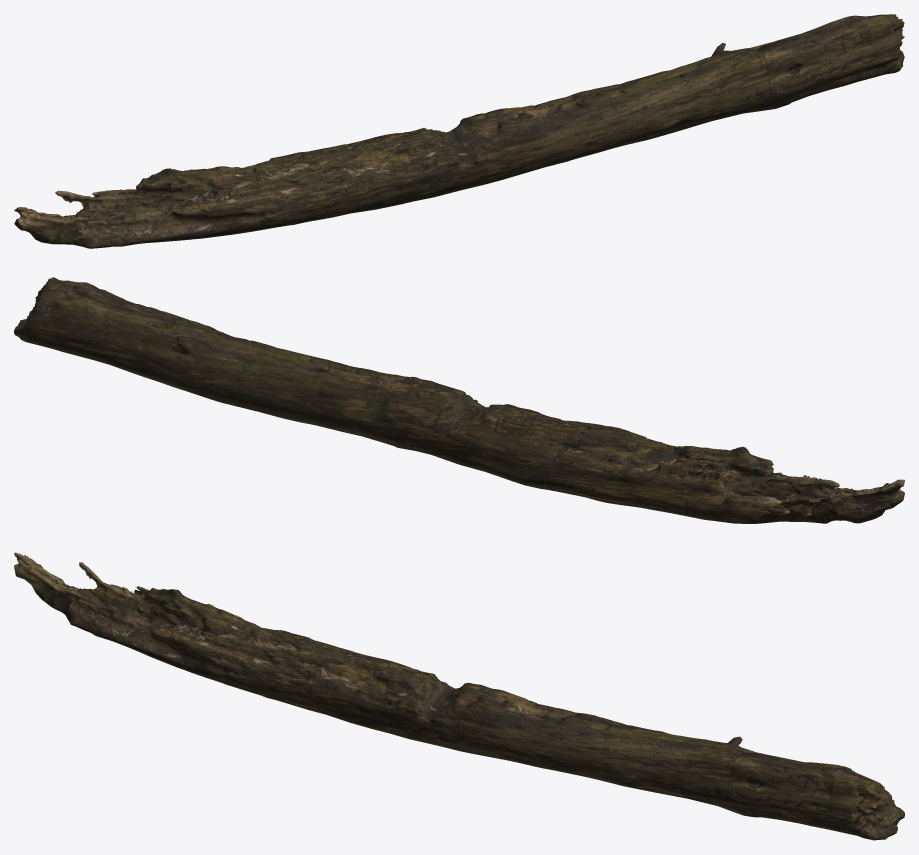
Rendered from debris.glb.
3 views of the same model, one above another, from view 1: azimuth 30°, elevation 25°; view 2: azimuth 150°, elevation 25°; view 3: azimuth 330°, elevation 25° (orthographic).
Visible parts, largest first — view 1: dead_tree_trunk; view 2: dead_tree_trunk; view 3: dead_tree_trunk.
Part boxes in pixels (left/top/right/bottom): dead_tree_trunk: left=14, top=14, right=904, bottom=248; dead_tree_trunk: left=14, top=277, right=904, bottom=523; dead_tree_trunk: left=14, top=552, right=904, bottom=840.
Bounding box in the file's own units: 3.05 × 0.2899 × 0.2775.
Materials: 1 (1 with a texture image).
